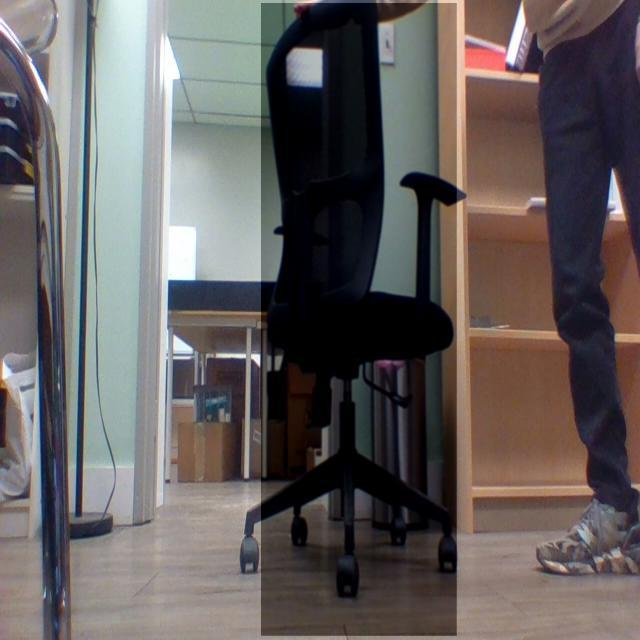chair: (217, 0, 463, 605)
